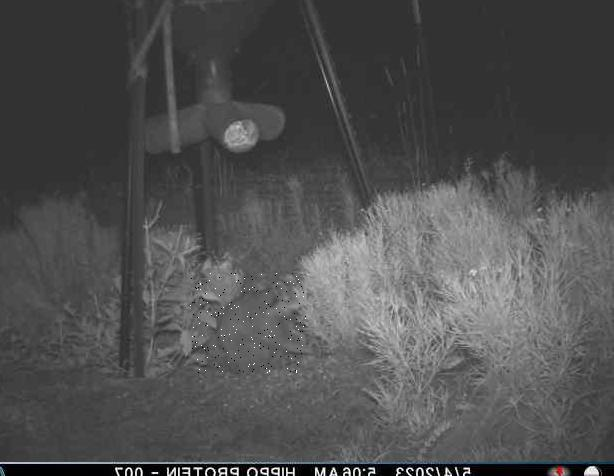Raccoon: (189, 273, 305, 373)
